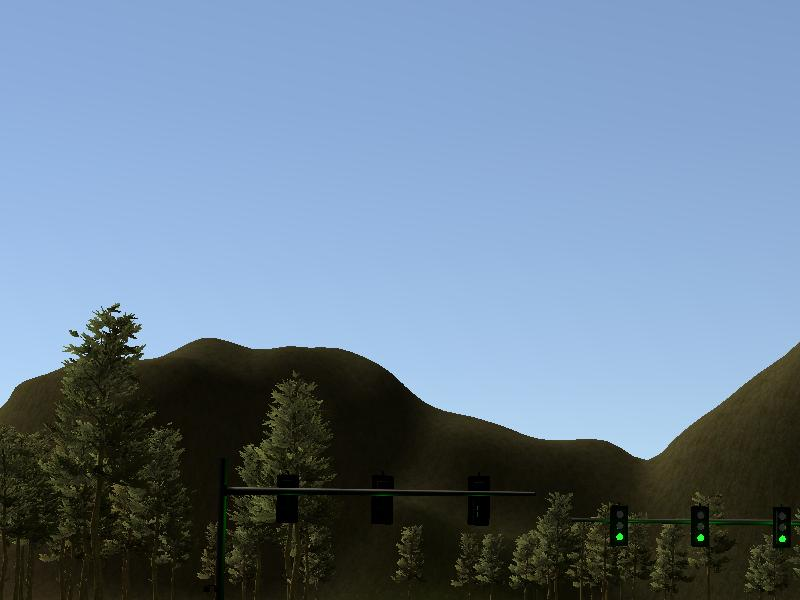Green: (691, 505, 709, 547), (610, 507, 628, 546), (773, 509, 790, 549)
